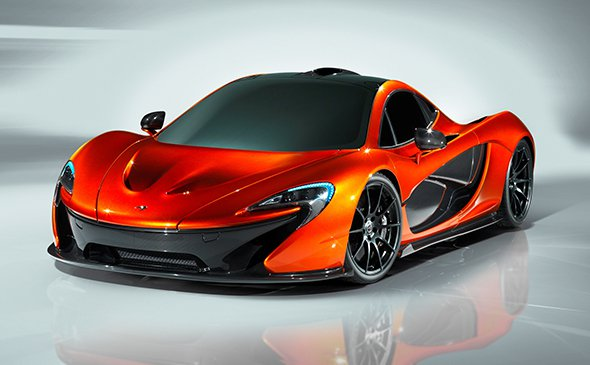car: (50, 62, 539, 290)
